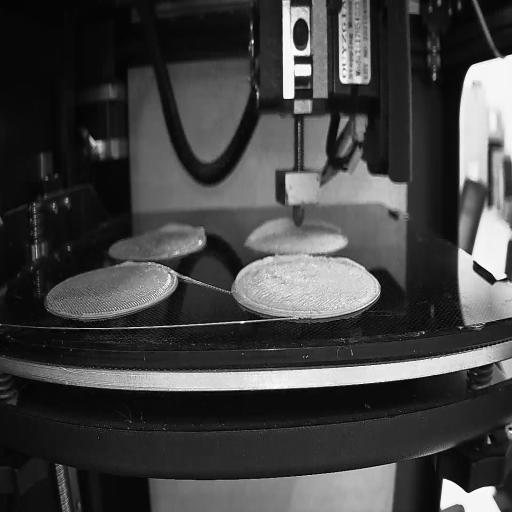over_extrusion: (234, 251, 302, 311), (246, 216, 292, 243), (303, 213, 341, 236), (333, 252, 366, 274), (161, 223, 208, 236), (120, 258, 134, 269)
